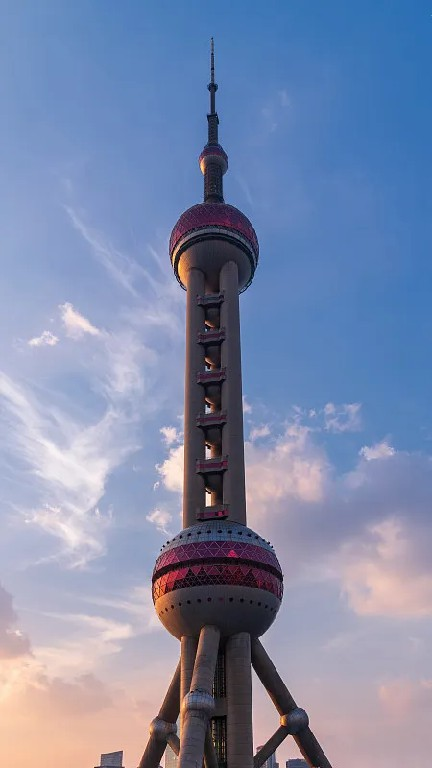Oriental: (139, 39, 332, 768)
